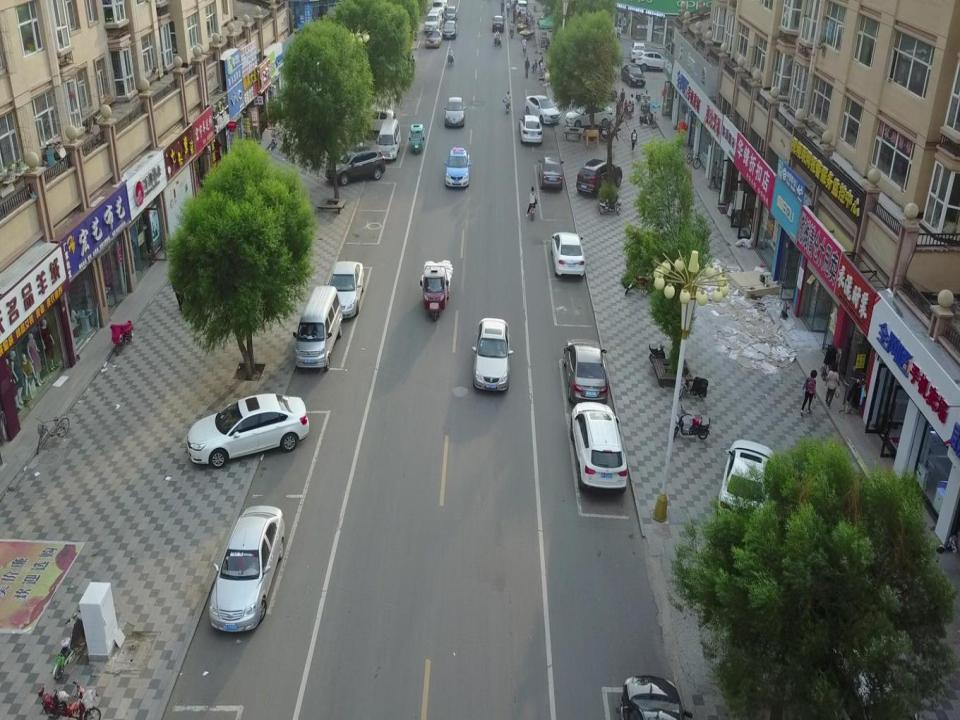car: (185, 391, 311, 468), (207, 502, 284, 628), (815, 643, 923, 720), (567, 400, 627, 491), (716, 438, 776, 522), (471, 317, 514, 392), (561, 337, 609, 403), (324, 257, 364, 318), (319, 146, 384, 181), (575, 155, 624, 197), (548, 232, 588, 278), (352, 96, 393, 134), (565, 102, 614, 129), (445, 144, 470, 185), (526, 93, 561, 122), (538, 154, 565, 188), (443, 94, 467, 126), (518, 115, 544, 144), (639, 50, 673, 72), (621, 63, 646, 87), (424, 10, 442, 31), (426, 28, 442, 49), (630, 40, 646, 61), (443, 18, 458, 38), (445, 7, 459, 27), (432, 0, 445, 20), (492, 12, 504, 29)
van: (290, 283, 345, 371), (377, 116, 400, 162), (515, 1, 529, 19)
